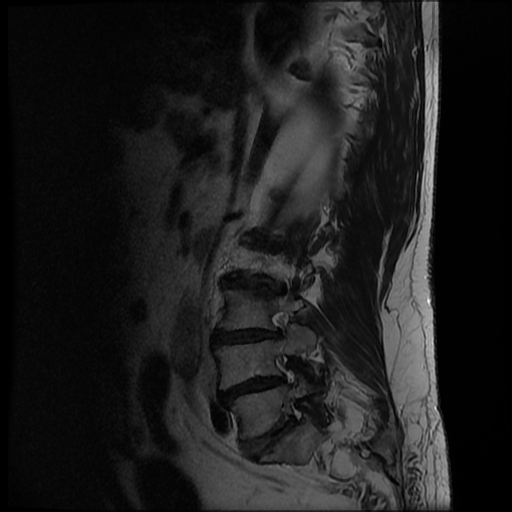RFS0: (267, 344, 303, 392)
